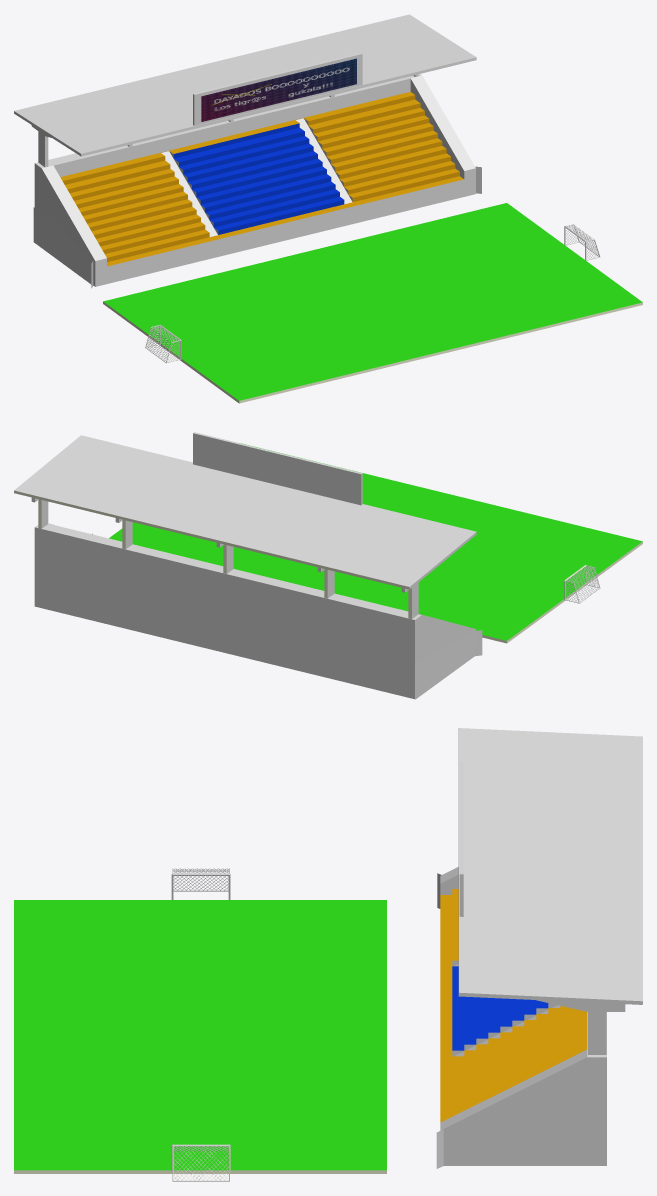
File: Stadium.fbx
3 views of the same model, one above another, from view 1: azimuth 30°, elevation 25°; view 2: azimuth 150°, elevation 25°; view 3: azimuth 270°, elevation 25° (orthographic). The views are drawn at different scales.
Visible parts, largest first — view 1: Building_Stadium, Proyecto nuevo; view 2: Building_Stadium; view 3: Building_Stadium.
Part boxes in pixels (x1,y1,x2,y2): Building_Stadium: [14, 14, 642, 403]; Proyecto nuevo: [201, 58, 356, 121]; Building_Stadium: [14, 432, 642, 699]; Building_Stadium: [14, 728, 642, 1181].
Size of the model in its own units: 881 by 312 by 806.
6 materials, 1 textured.
